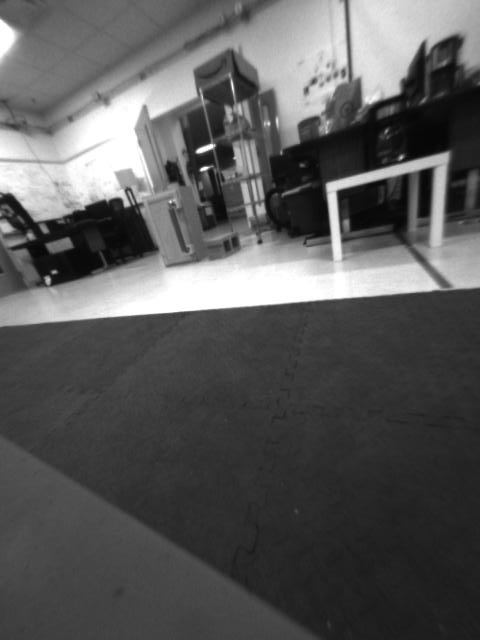coffee_pot: (362, 91, 414, 167)
